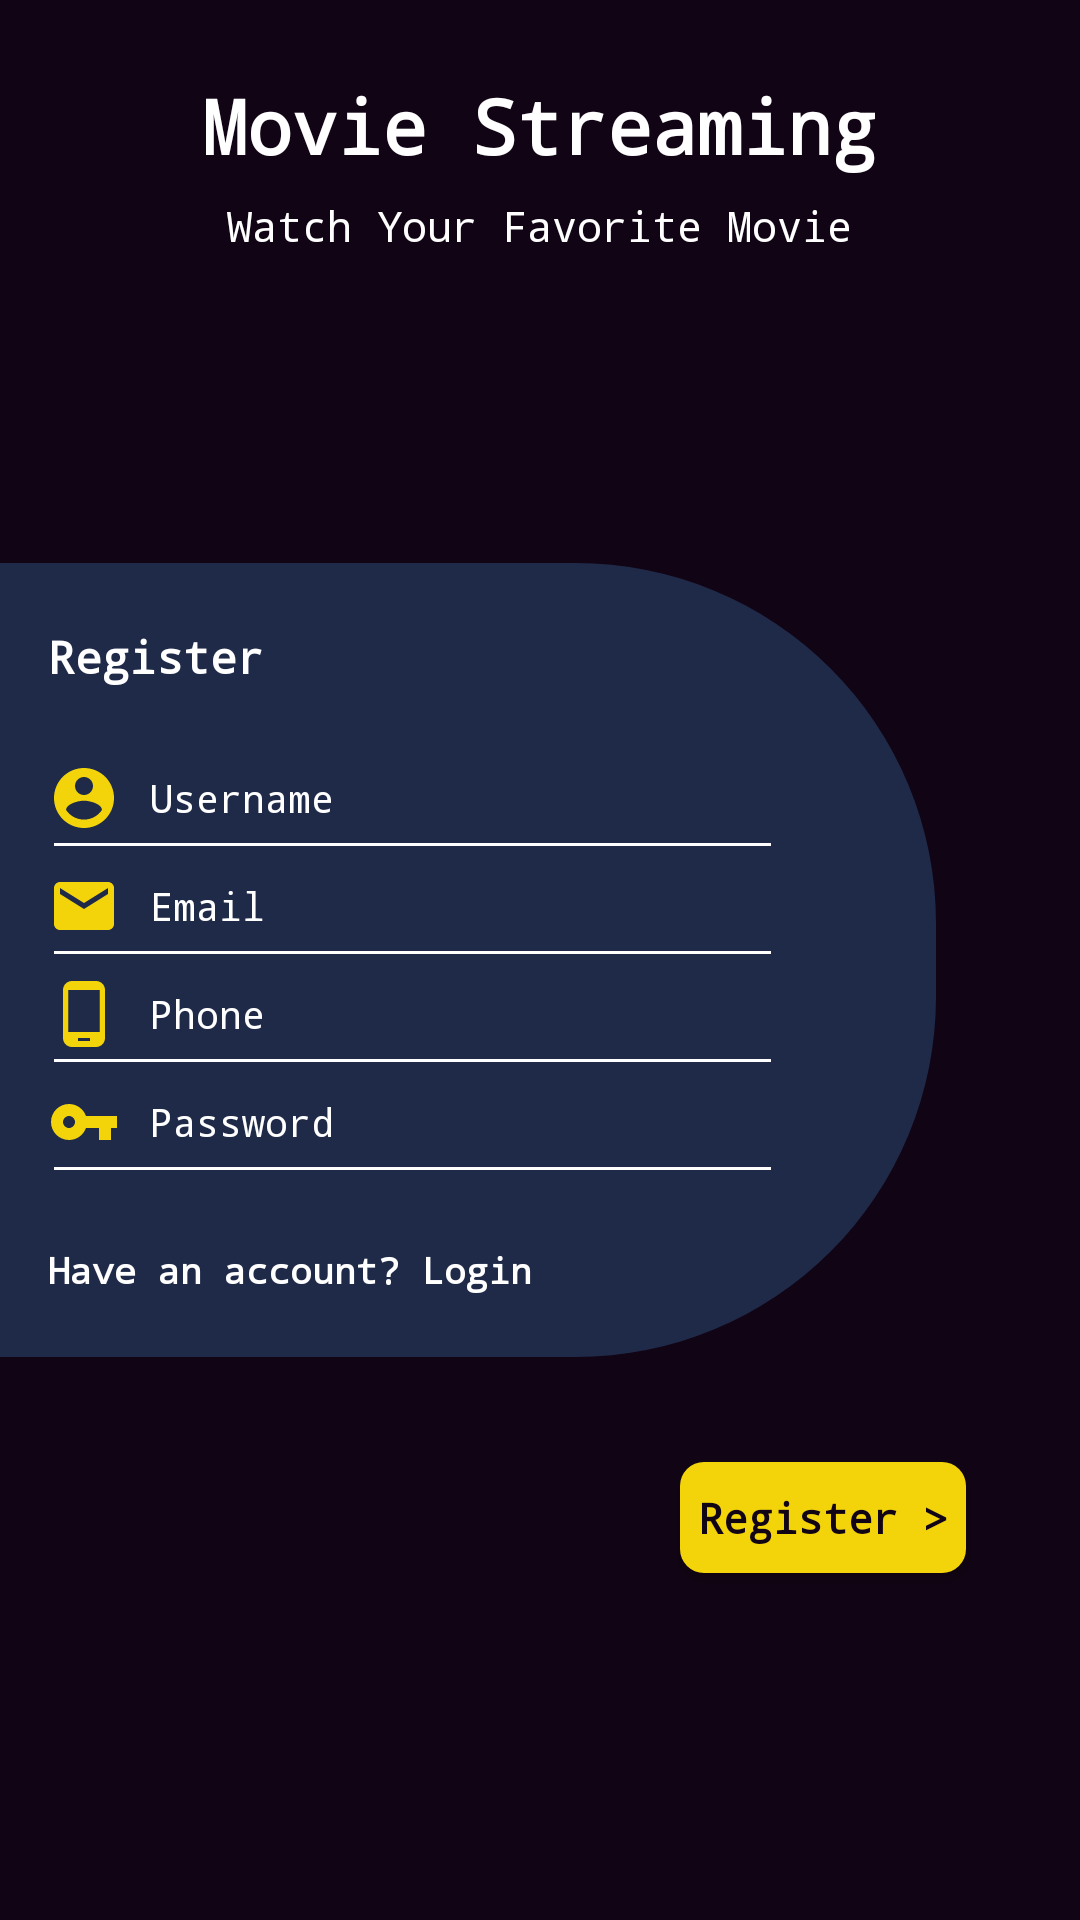

Named icons in this screenshot (1080×1920) and their bounding boxes, (x1, y1, x2, y2):
account circle: (54, 768, 114, 828)
vpn key: (51, 1104, 117, 1140)
